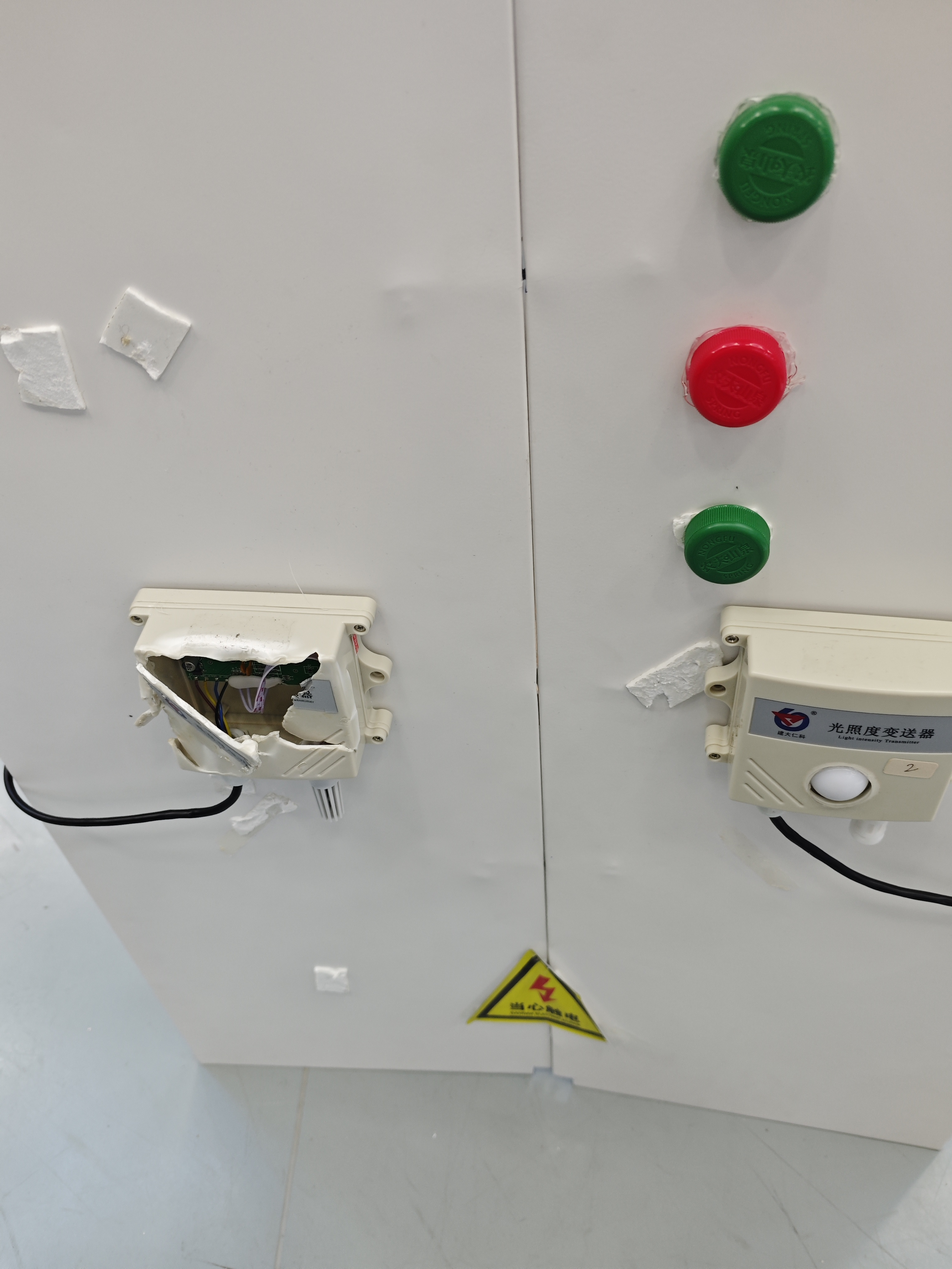red_warning: (657, 290, 817, 455)
sensor_damage: (100, 543, 428, 846)
